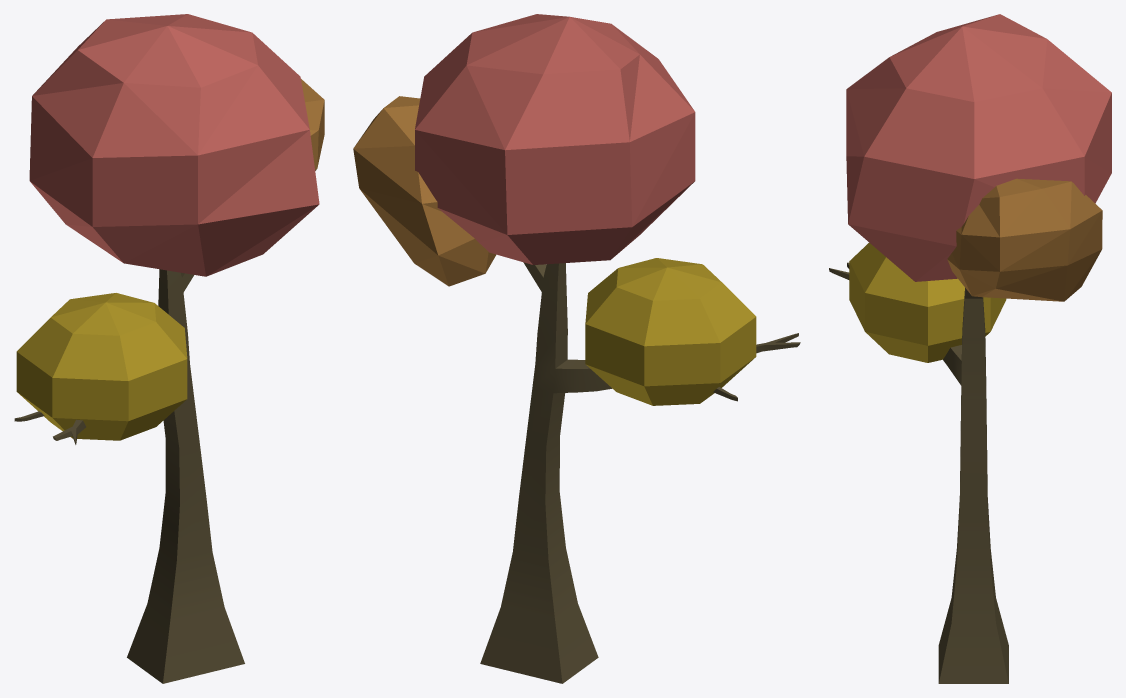
File: simple tree.fbx
The picture shows the model from 3 angles, left to right: view 1: azimuth 30°, elevation 25°; view 2: azimuth 150°, elevation 25°; view 3: azimuth 270°, elevation 25°; orthographic projection. The views are drawn at different scales.
Visible parts, largest first — view 1: pasted__pSphere1, pasted__pasted__pSphere1, pCube1, pSphere1; view 2: pasted__pSphere1, pCube1, pasted__pasted__pSphere1, pSphere1; view 3: pasted__pSphere1, pSphere1, pCube1, pasted__pasted__pSphere1.
Part boxes in pixels (x1,y1,x2,y2): pasted__pSphere1: (29, 14, 319, 276); pasted__pasted__pSphere1: (16, 293, 187, 440); pCube1: (14, 269, 244, 683); pSphere1: (301, 79, 324, 170); pasted__pSphere1: (415, 14, 695, 264); pCube1: (480, 262, 800, 683); pasted__pasted__pSphere1: (585, 258, 756, 405); pSphere1: (353, 96, 495, 286); pasted__pSphere1: (846, 14, 1111, 281); pSphere1: (947, 178, 1102, 301); pCube1: (829, 262, 1008, 683); pasted__pasted__pSphere1: (849, 242, 1006, 362).
Size of the model in its own units: 9.87 by 17.47 by 7.15.
